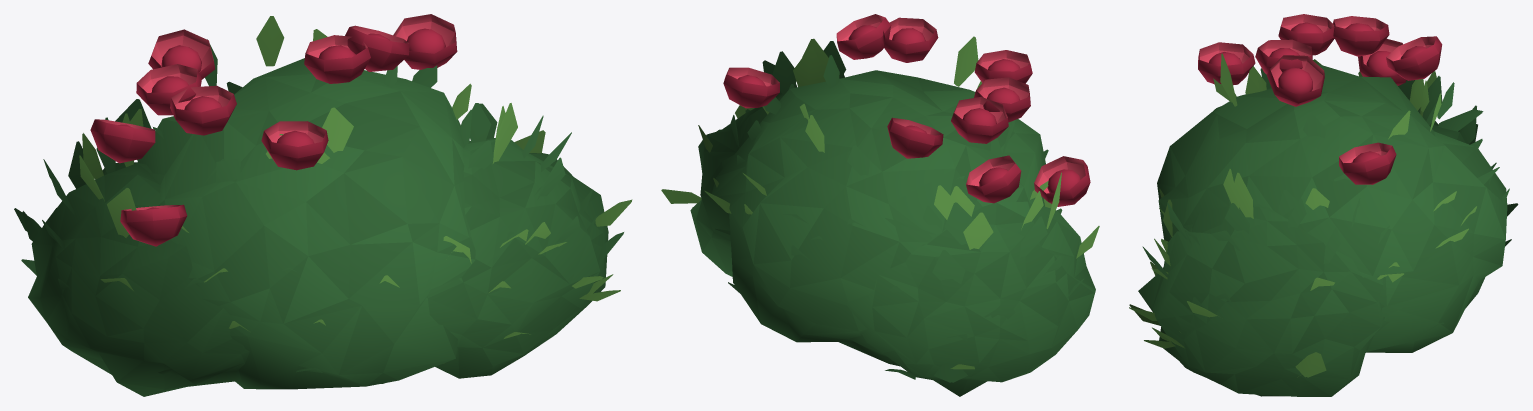
Rendered from ZB_bitki_gul_cali.glb.
3 views of the same model, side by side, from view 1: azimuth 30°, elevation 25°; view 2: azimuth 150°, elevation 25°; view 3: azimuth 270°, elevation 25° (orthographic). The views are drawn at different scales.
Visible parts, largest first — view 1: ZB_bitki_gul_cali; view 2: ZB_bitki_gul_cali; view 3: ZB_bitki_gul_cali.
Part boxes in pixels (<box>): ZB_bitki_gul_cali: <box>14,14,632,396</box>; ZB_bitki_gul_cali: <box>661,14,1099,396</box>; ZB_bitki_gul_cali: <box>1129,14,1518,396</box>.
Size of the model in its own units: 1.29 by 0.8385 by 0.9688.
